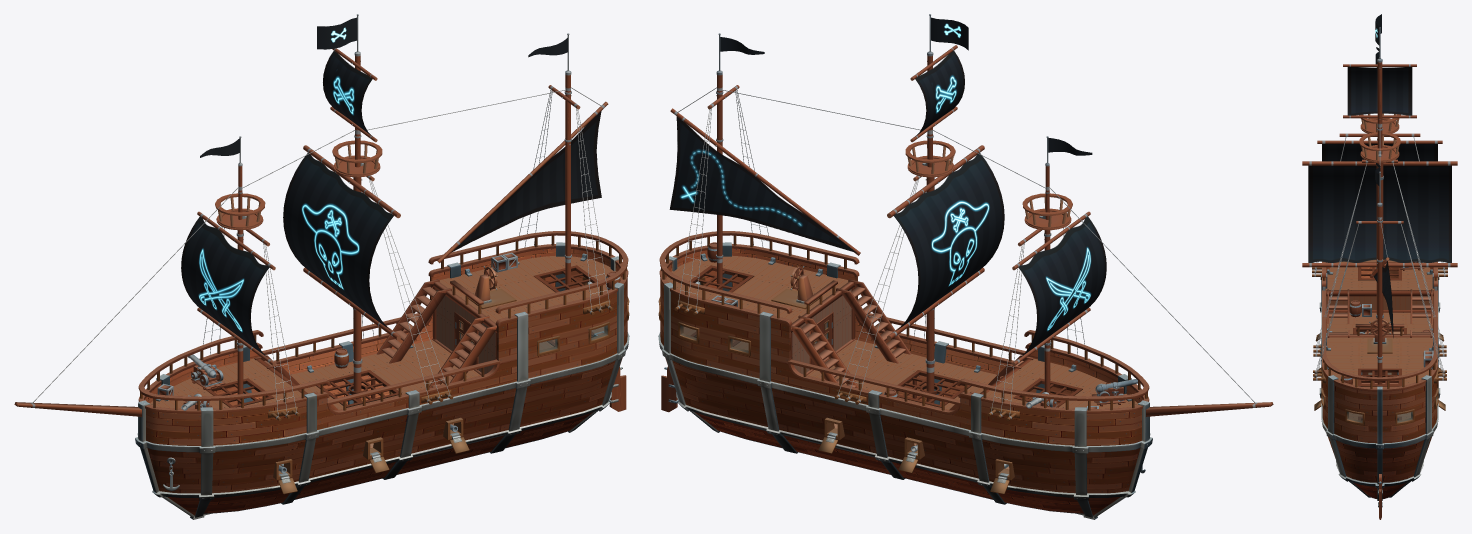
The picture shows the model from 3 angles, left to right: view 1: azimuth 30°, elevation 25°; view 2: azimuth 150°, elevation 25°; view 3: azimuth 270°, elevation 25°; orthographic projection. The views are drawn at different scales.
Parts seen in each view (by area): view 1: StylShip_Body_Mat_StylShip_ShipHull_0, StylShip_SailMid1, StylShip_SailFront, StylShip_SailBack, StylShip_FloorBackTop_Mat_StylShip_Decks_0, StylShip_FloorMid_Mat_StylShip_Decks_0, StylShip_MastMid, StylShip_FencingBack_Mat_StylShip_Elements_0, StylShip_StairsTop, StylShip_FencingFront_Mat_StylShip_Elements_0, StylShip_FencingMid_Mat_StylShip_Elements_0, StylShip_FloorFront_Mat_StylShip_Decks_0 (+14 smaller); view 2: StylShip_Body_Mat_StylShip_ShipHull_0, StylShip_SailMid1, StylShip_SailBack, StylShip_SailFront, StylShip_FloorBackTop_Mat_StylShip_Decks_0, StylShip_FloorMid_Mat_StylShip_Decks_0, StylShip_MastMid, StylShip_FencingBack_Mat_StylShip_Elements_0, StylShip_StairsTop, StylShip_FencingFront_Mat_StylShip_Elements_0, StylShip_FencingMid_Mat_StylShip_Elements_0, StylShip_FloorFront_Mat_StylShip_Decks_0 (+14 smaller); view 3: StylShip_SailMid1, StylShip_Body_Mat_StylShip_ShipHull_0, StylShip_MastMid, StylShip_FloorBackTop_Mat_StylShip_Decks_0, StylShip_FloorFront_Mat_StylShip_Decks_0, StylShip_SailMid2, StylShip_FencingBack_Mat_StylShip_Elements_0, StylShip_FloorMid_Mat_StylShip_Decks_0, StylShip_SailFront, StylShip_MastBack, StylShip_MastFront, StylShip_StairsSmall_Mat_StylShip_Elements_0 (+9 smaller).
Part boxes in pixels (x1,y1,x2,y2): StylShip_Body_Mat_StylShip_ShipHull_0: (135,242,629,519); StylShip_SailMid1: (283,153,393,331); StylShip_SailFront: (181,216,269,356); StylShip_SailBack: (451,111,601,252); StylShip_FloorBackTop_Mat_StylShip_Decks_0: (439,253,621,322); StylShip_FloorMid_Mat_StylShip_Decks_0: (291,340,480,409); StylShip_MastMid: (303,14,400,403); StylShip_FencingBack_Mat_StylShip_Elements_0: (428,231,628,326); StylShip_StairsTop: (377,279,496,388); StylShip_FencingFront_Mat_StylShip_Elements_0: (138,330,330,413); StylShip_FencingMid_Mat_StylShip_Elements_0: (262,313,499,414); StylShip_FloorFront_Mat_StylShip_Decks_0: (150,358,307,408); StylShip_Body_Mat_StylShip_ShipHull_0: (658,242,1152,519); StylShip_SailMid1: (894,153,1004,332); StylShip_SailBack: (669,116,856,252); StylShip_SailFront: (1018,216,1106,357); StylShip_FloorBackTop_Mat_StylShip_Decks_0: (666,253,848,322); StylShip_FloorMid_Mat_StylShip_Decks_0: (807,340,996,409); StylShip_MastMid: (887,14,984,403); StylShip_FencingBack_Mat_StylShip_Elements_0: (659,231,859,326); StylShip_StairsTop: (791,279,910,388); StylShip_FencingFront_Mat_StylShip_Elements_0: (957,330,1149,413); StylShip_FencingMid_Mat_StylShip_Elements_0: (788,313,1025,414); StylShip_FloorFront_Mat_StylShip_Decks_0: (980,358,1137,408); StylShip_SailMid1: (1308,165,1451,262); StylShip_Body_Mat_StylShip_ShipHull_0: (1319,262,1440,500); StylShip_MastMid: (1302,27,1457,321); StylShip_FloorBackTop_Mat_StylShip_Decks_0: (1326,337,1433,387); StylShip_FloorFront_Mat_StylShip_Decks_0: (1325,259,1434,312); StylShip_SailMid2: (1347,67,1412,115); StylShip_FencingBack_Mat_StylShip_Elements_0: (1322,317,1437,391); StylShip_FloorMid_Mat_StylShip_Decks_0: (1326,312,1433,374); StylShip_SailFront: (1322,144,1437,166); StylShip_MastBack: (1356,171,1403,384); StylShip_MastFront: (1317,58,1442,332); StylShip_StairsSmall_Mat_StylShip_Elements_0: (1327,289,1432,323).
Size of what is drawn, in the model's own units: 9.34 by 6.79 by 2.48.
Materials: 6 (6 with a texture image).
